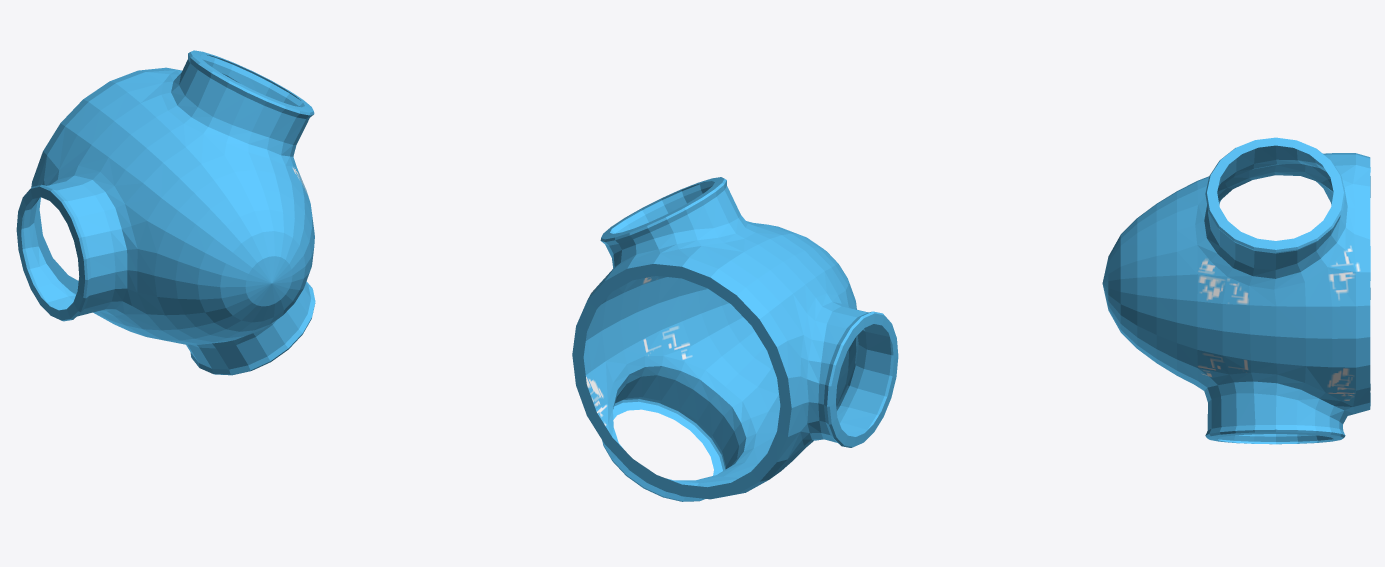
The model's file is windpowergenerator_grid_2001_03.obj.
The picture shows the model from 3 angles, left to right: view 1: azimuth 30°, elevation 25°; view 2: azimuth 150°, elevation 25°; view 3: azimuth 270°, elevation 25°; orthographic projection.
Parts seen in each view (by area): view 1: polySurface176; view 2: polySurface176; view 3: polySurface176.
Boxes of the visible parts, box(x1,y1,x2,y2) form: polySurface176: box(16, 50, 315, 375); polySurface176: box(572, 177, 898, 501); polySurface176: box(1102, 137, 1370, 444).
Bounding box in the file's own units: 1007 × 1007 × 454.
Materials: 1 (1 with a texture image).
